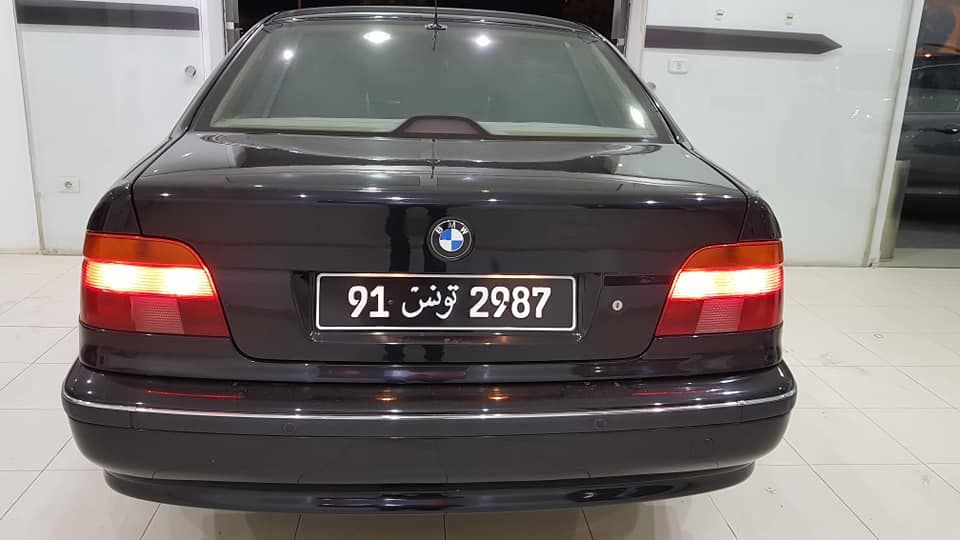LP: (308, 271, 584, 338)
